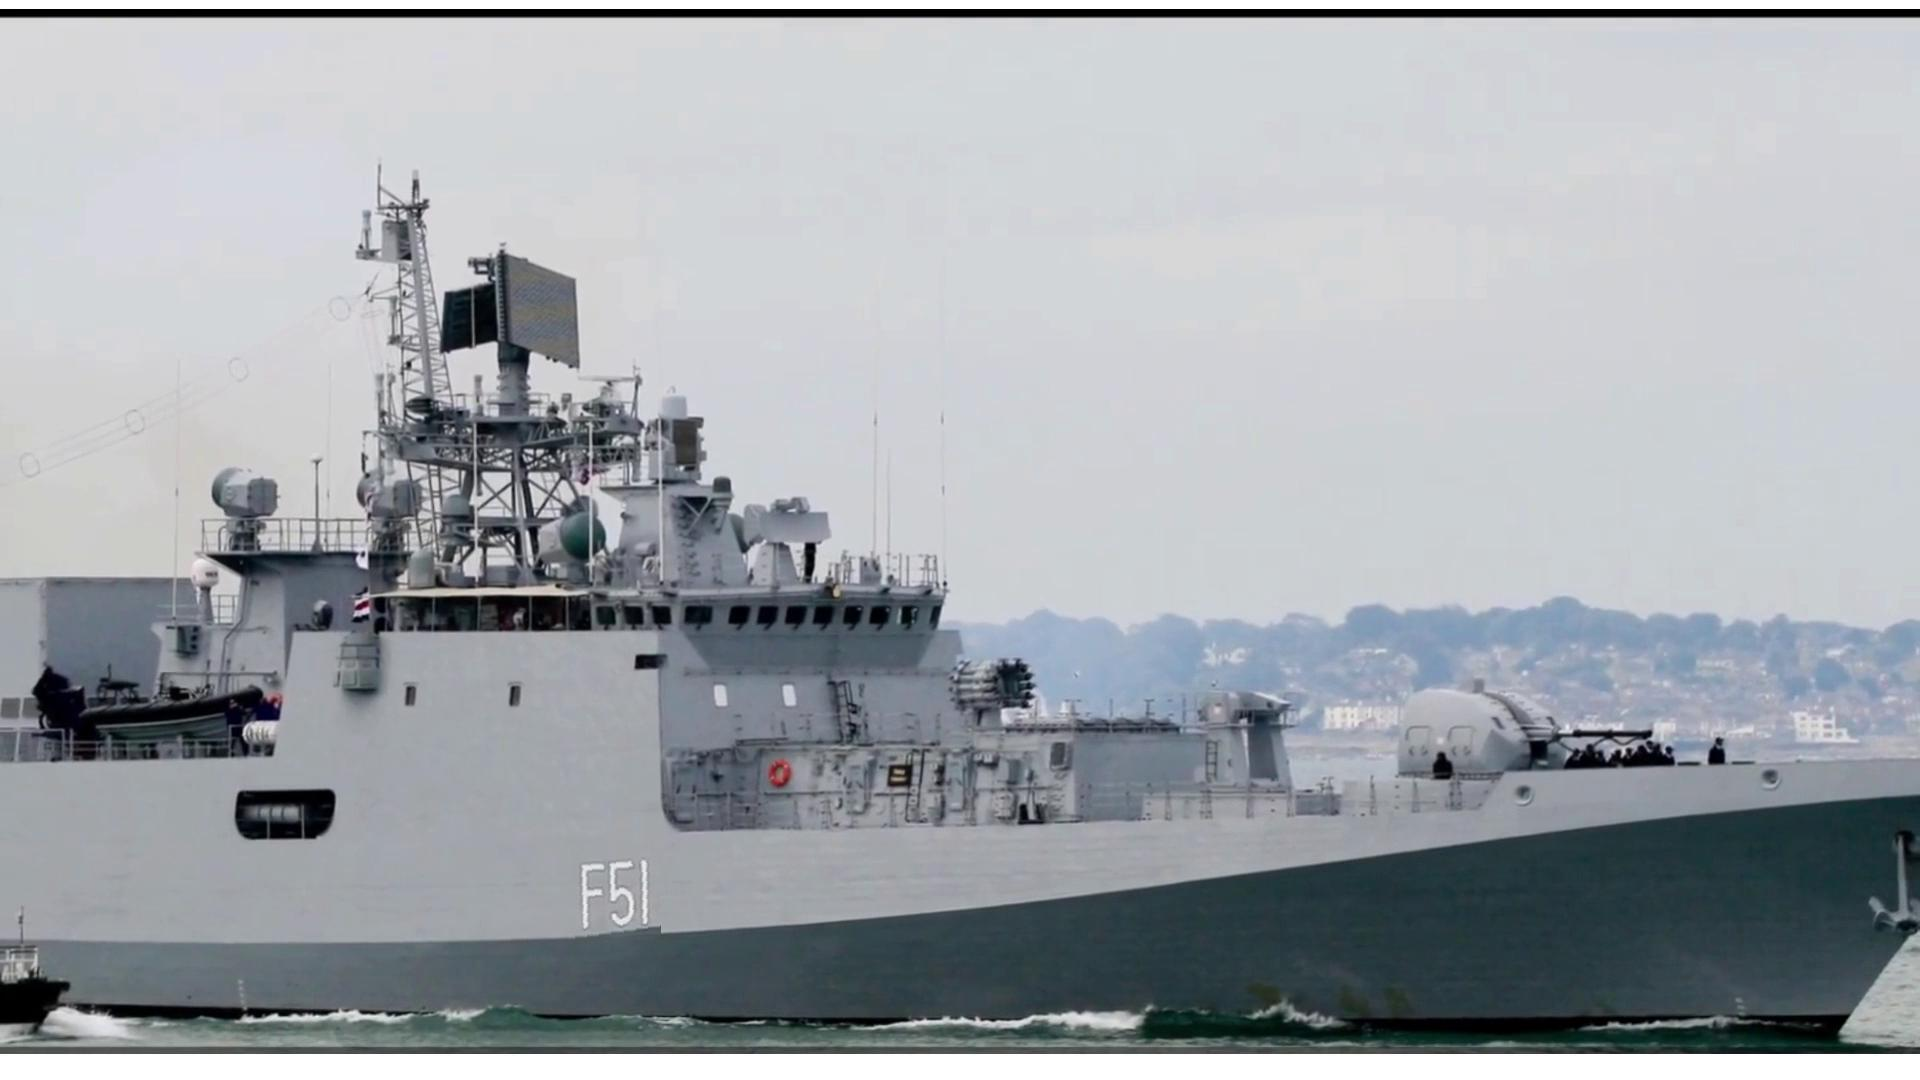OCR: (559, 856, 661, 944)
